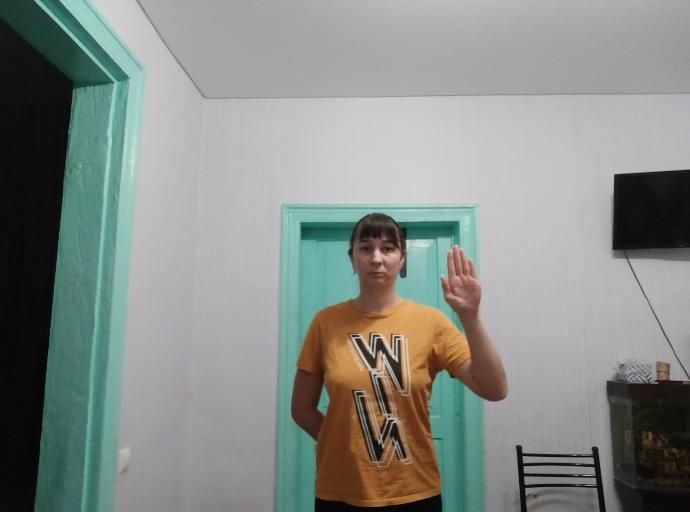stop: (438, 243, 484, 317)
